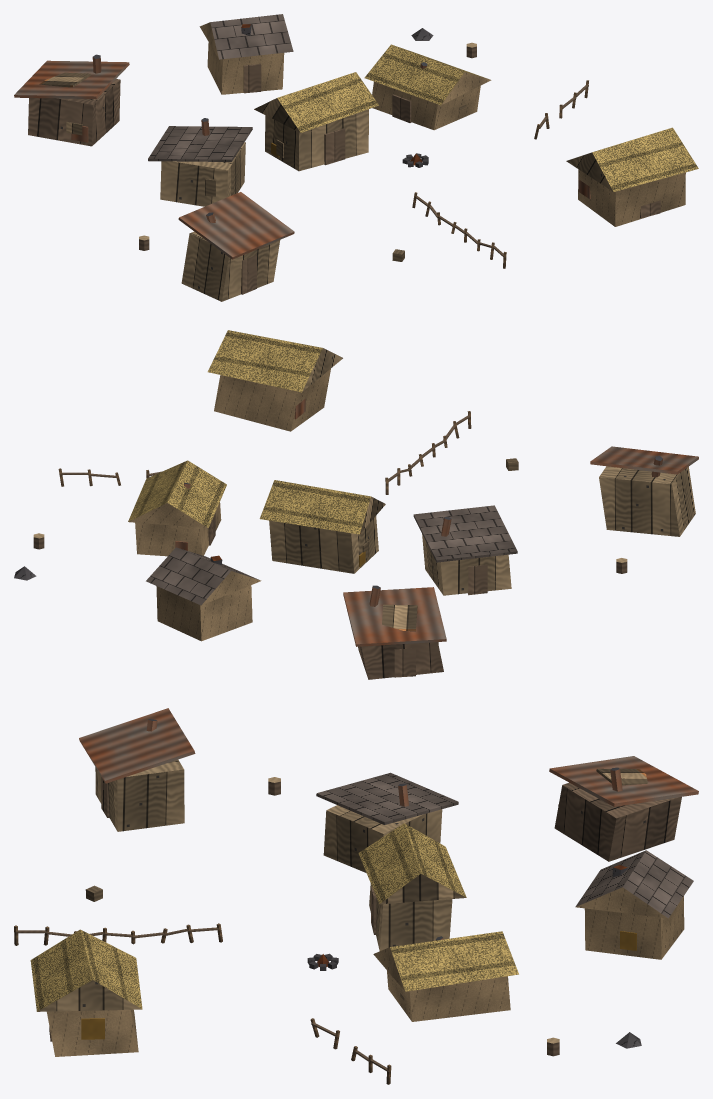
The model's file is cm_goblin_peasant_a.glb.
3 renders of one model, top to bottom at view 1: azimuth 30°, elevation 25°; view 2: azimuth 150°, elevation 25°; view 3: azimuth 270°, elevation 25°, orthographic. The views are drawn at different scales.
Parts seen in each view (by area): view 1: cm_goblin_peasant_a; view 2: cm_goblin_peasant_a; view 3: cm_goblin_peasant_a.
Part boxes in pixels (bbox=[...]): cm_goblin_peasant_a: bbox=[14, 14, 698, 301]; cm_goblin_peasant_a: bbox=[14, 330, 698, 679]; cm_goblin_peasant_a: bbox=[14, 708, 698, 1084].
Size of the model in its own units: 1.74 by 0.2383 by 1.71.
Materials: 1 (1 with a texture image).
